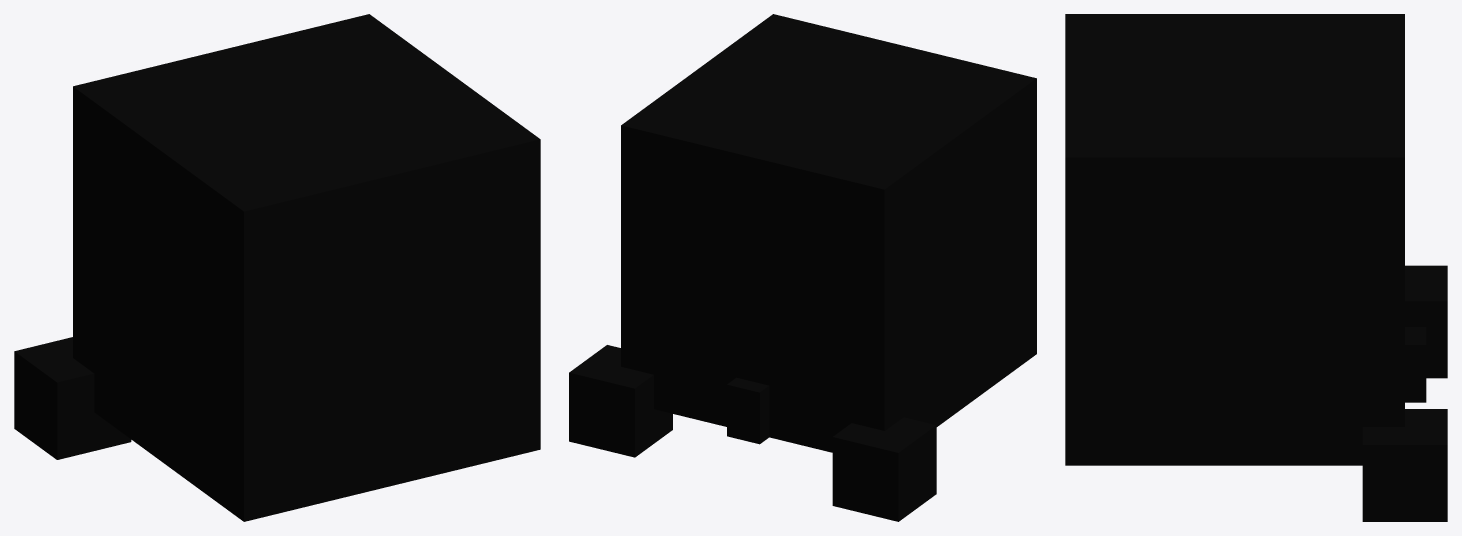
Rendered from nomex_head.obj.
The picture shows the model from 3 angles, left to right: view 1: azimuth 30°, elevation 25°; view 2: azimuth 150°, elevation 25°; view 3: azimuth 270°, elevation 25°; orthographic projection. The views are drawn at different scales.
Parts seen in each view (by area): view 1: helmet; view 2: helmet; view 3: helmet.
Part boxes in pixels (box(x1,y1,x2,y2)): helmet: box(14, 14, 540, 521); helmet: box(569, 14, 1036, 521); helmet: box(1065, 14, 1447, 521).
Size of the model in its own units: 0.625 by 0.5625 by 0.5625.
